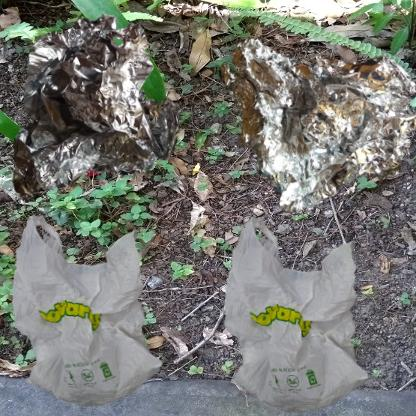aluminio: (213, 10, 416, 227), (10, 10, 185, 209)
bolsa: (213, 213, 389, 416), (10, 213, 166, 409)
